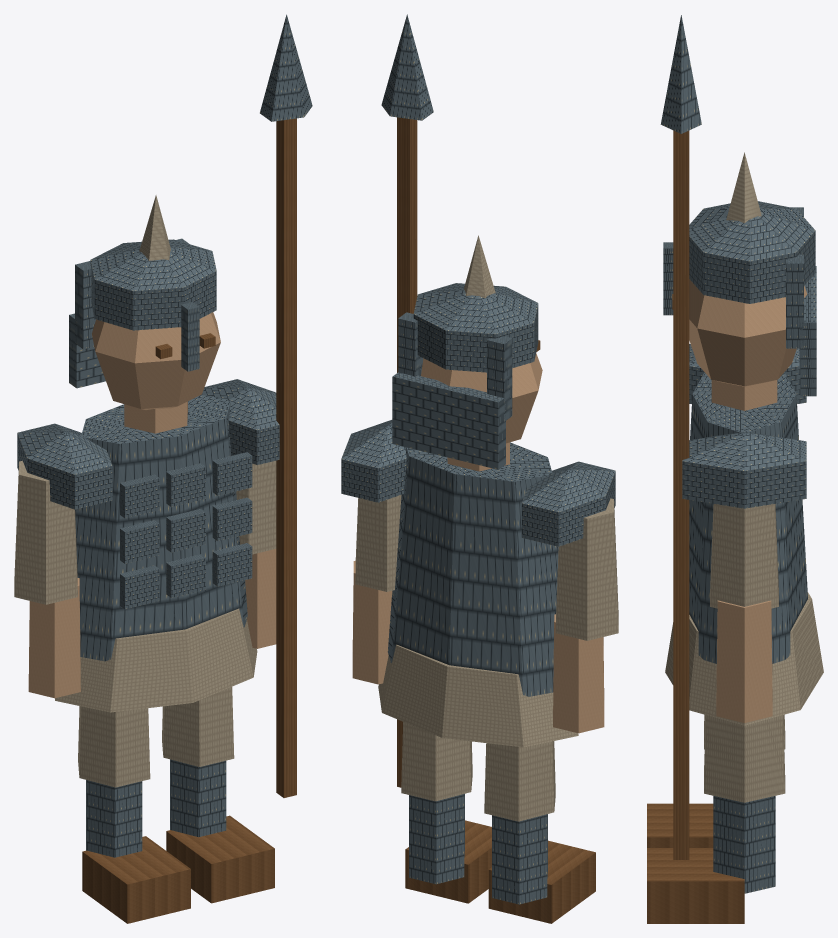
File: unit-SPEAR-lod0.glb
The picture shows the model from 3 angles, left to right: view 1: azimuth 30°, elevation 25°; view 2: azimuth 150°, elevation 25°; view 3: azimuth 270°, elevation 25°; orthographic projection. The views are drawn at different scales.
Size of the model in its own units: 0.187 by 0.565 by 0.098.
1 material, 1 textured.
